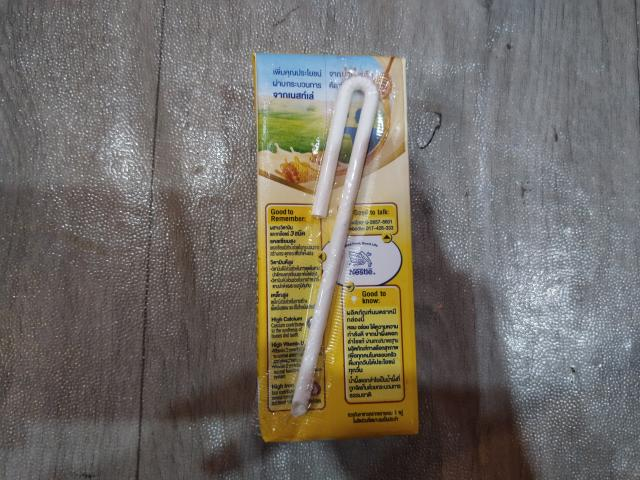drink_box: (247, 46, 423, 444)
